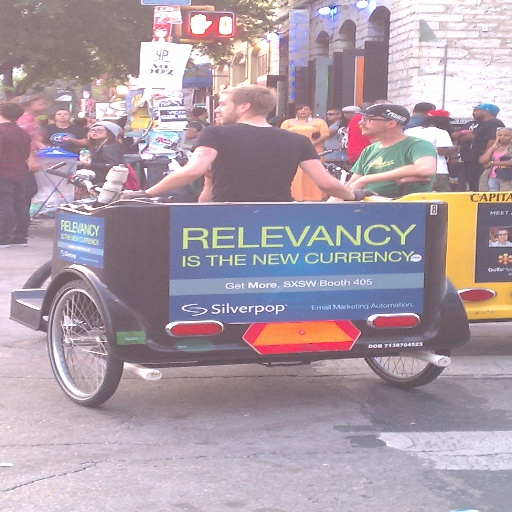hand: (343, 185, 379, 201), (121, 190, 148, 198), (27, 158, 39, 173), (78, 152, 90, 162), (58, 135, 72, 142), (489, 138, 497, 149), (482, 161, 491, 168), (466, 128, 473, 132)
